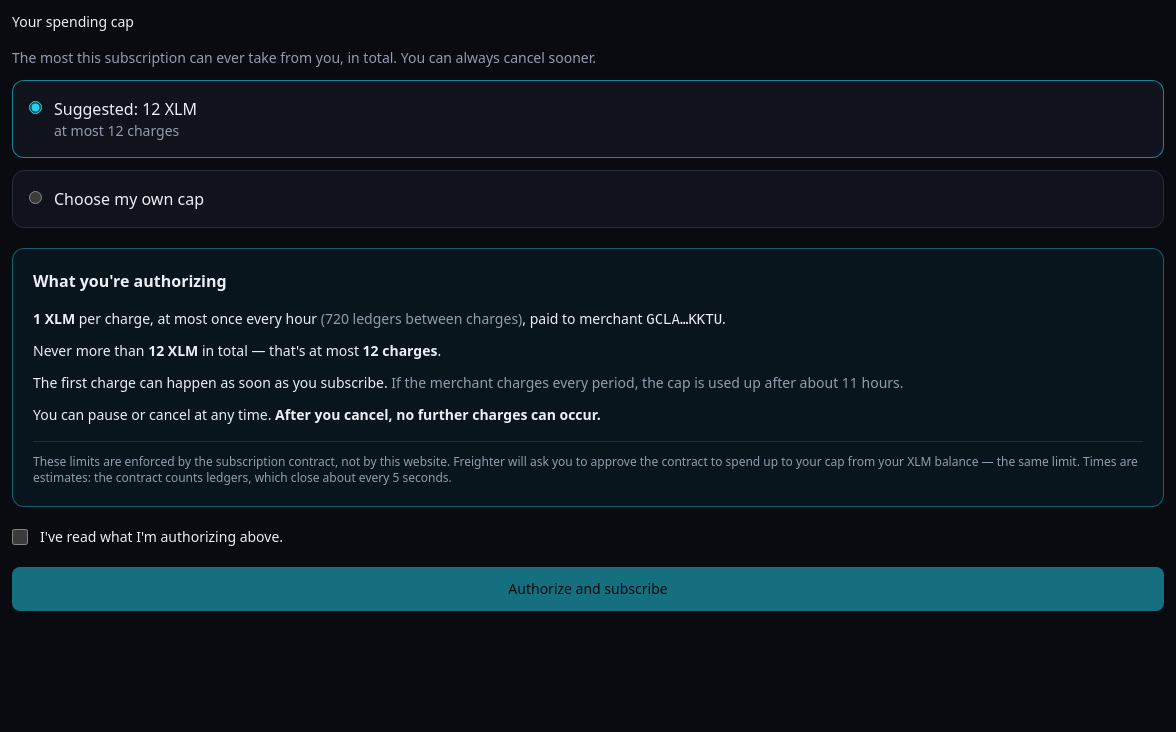
Scenario: SubscribeForm › subscribes with exactly the chosen cap and the plan's terms
The width and height of the screenshot is (1176, 732).
Click the checkbox labelled "I've read what I'm authorizing above.". click: (20, 537)
box: [12, 529, 28, 545]
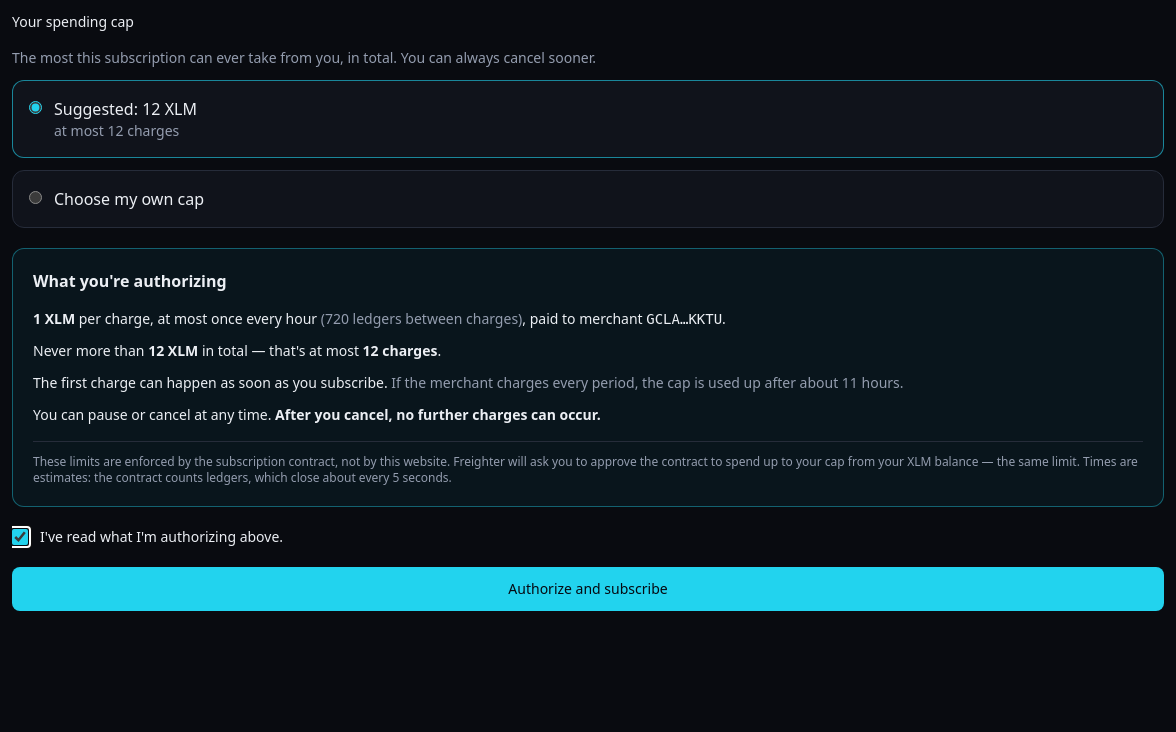
Click the button "Authorize and subscribe". click: (588, 589)
box: [12, 567, 1164, 611]
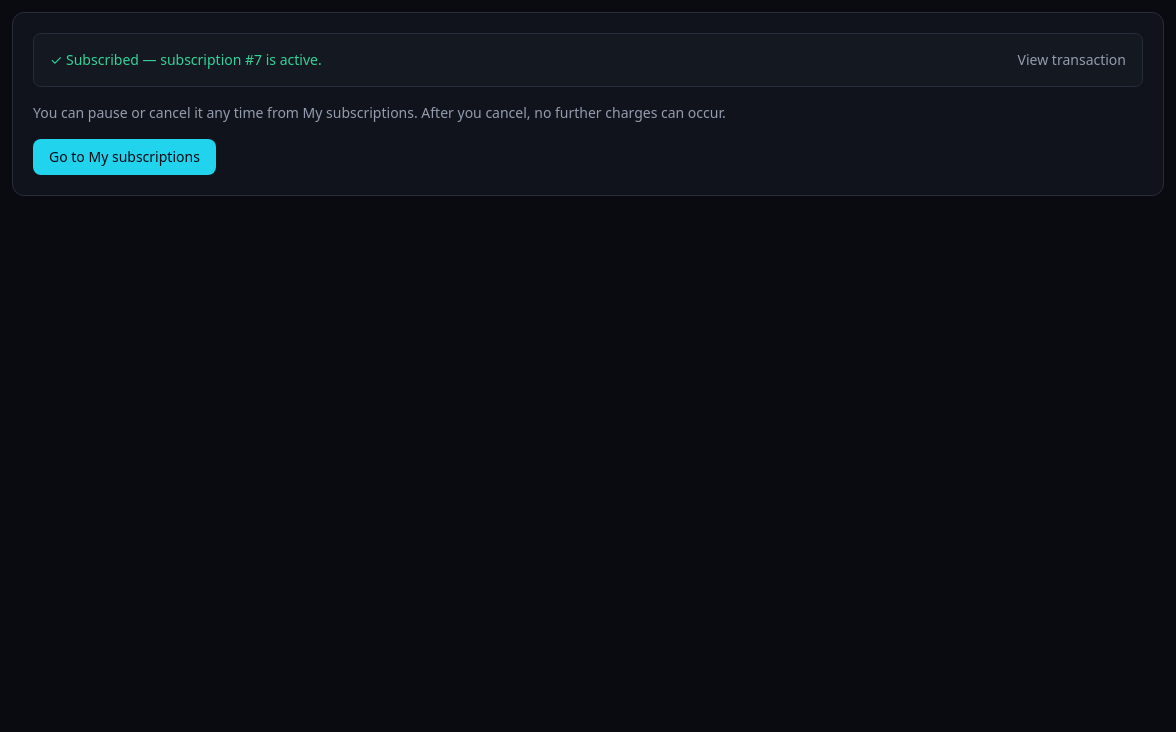
Expected: the text "✓ Subscribed — subscription #7 is active." is shown, [50, 50, 322, 70]
